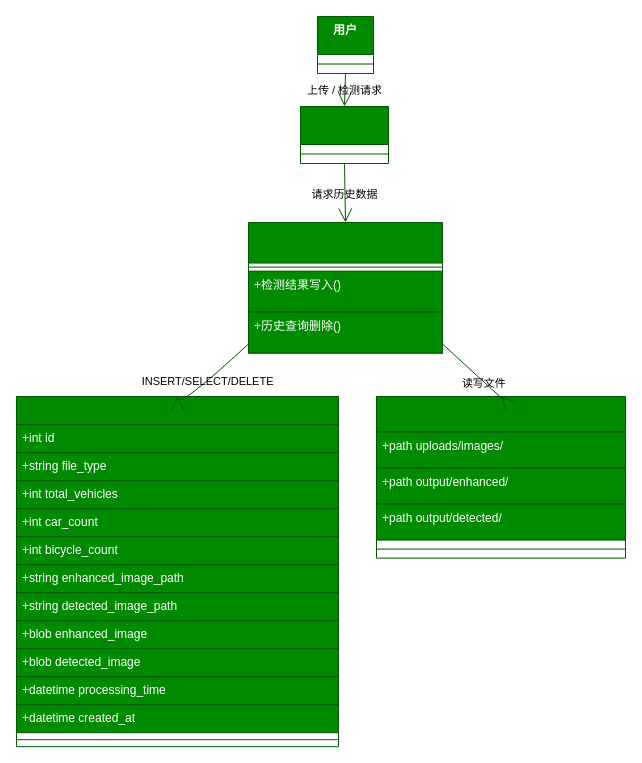
The diagram is 642 pixels wide and 763 high, and some of its shapes have lost their labels. Each missing label, with the box of its shape:
D1_detection_records: (16, 396, 338, 747)
D2_图像文件: (376, 396, 626, 558)
P6_数据持久化: (248, 222, 442, 353)
Web前端: (300, 106, 388, 164)
